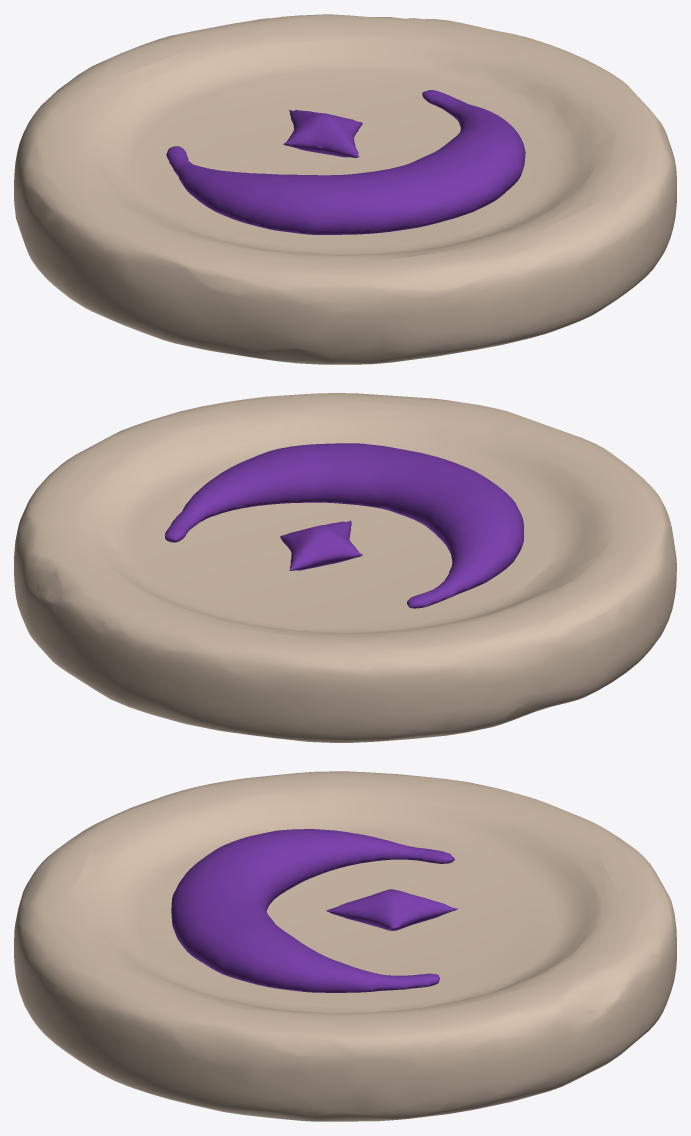
The model's file is token-mage-red-draco.glb.
The picture shows the model from 3 angles, top to bottom: view 1: azimuth 30°, elevation 25°; view 2: azimuth 150°, elevation 25°; view 3: azimuth 270°, elevation 25°; orthographic projection.
Visible parts, largest first — view 1: token_mage_red; view 2: token_mage_red; view 3: token_mage_red.
Part boxes in pixels (left/top/right/bottom): token_mage_red: left=14, top=14, right=676, bottom=364; token_mage_red: left=14, top=393, right=676, bottom=742; token_mage_red: left=14, top=771, right=676, bottom=1121.
Size of the model in its own units: 0.4141 by 0.0741 by 0.4142.
